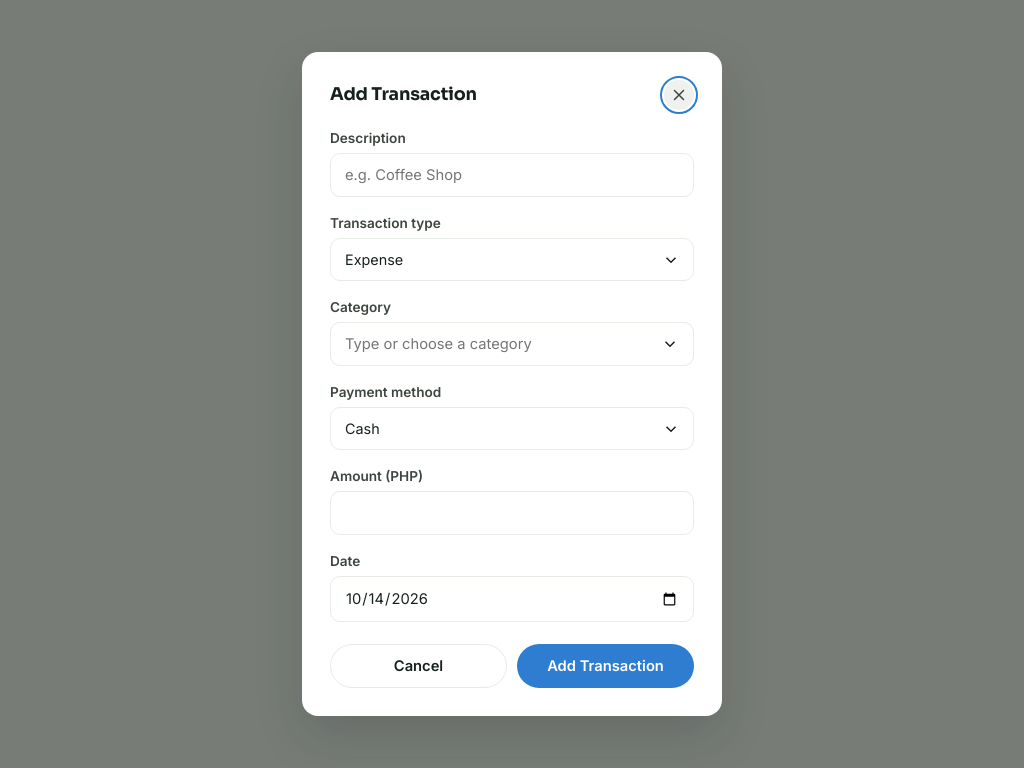
Test case: fills the transaction category from the saved-category dropdown
Step 1. Click the button named "Choose a saved category" → (670, 344), box [650,326,690,362]
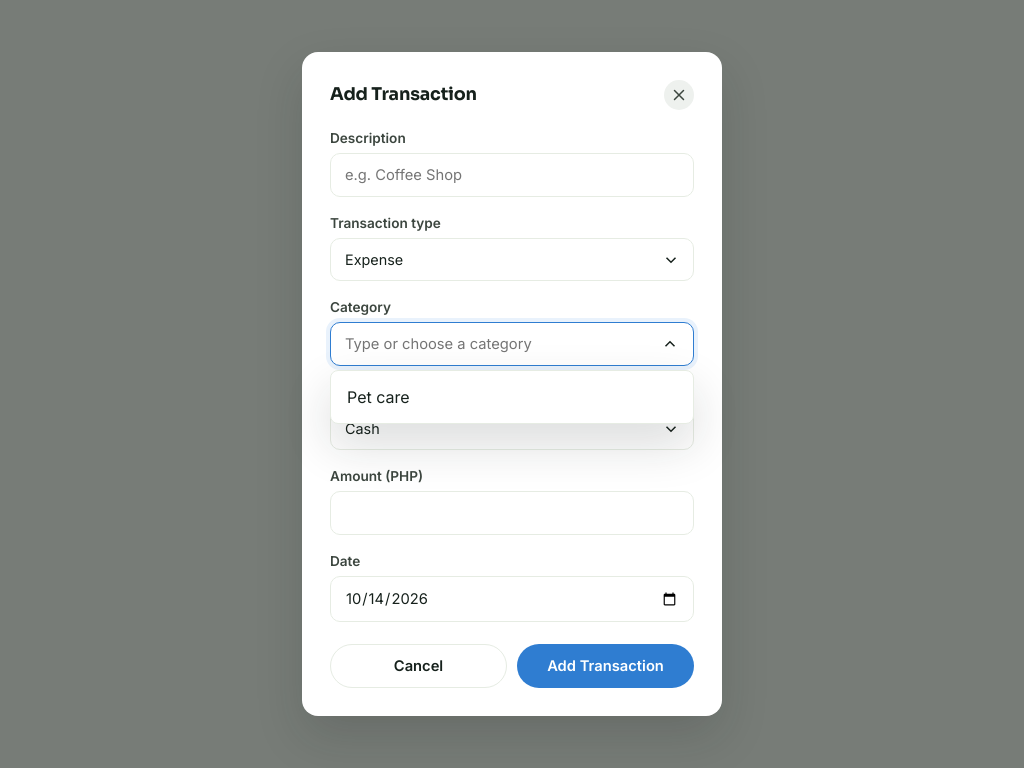
Expected: the option "Pet care" is shown
Step 2. Click the option "Pet care" → (378, 397), box [347,387,410,407]
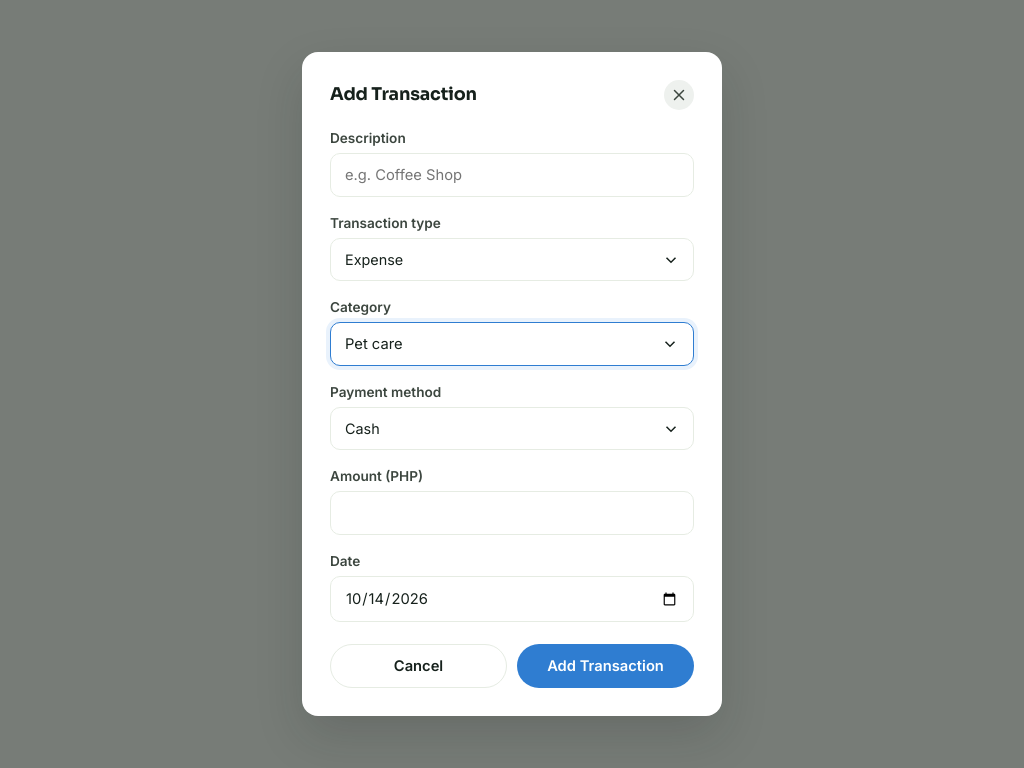
Expected: the dropdown labelled "Category" holds "Pet care", [330,322,694,366]
